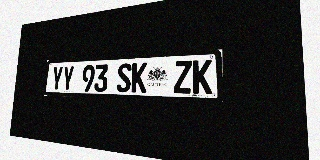3: (94, 64, 108, 92)
9: (81, 65, 95, 92)
K: (192, 59, 212, 94), (131, 62, 147, 93)
S: (116, 63, 132, 92)
Y: (51, 66, 63, 91), (62, 66, 74, 91)
Z: (174, 60, 192, 94)
